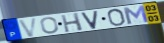H: (60, 12, 85, 33)
M: (122, 5, 151, 25)
O: (106, 7, 127, 27), (39, 16, 60, 35)
V: (17, 16, 39, 38), (80, 10, 99, 30)
